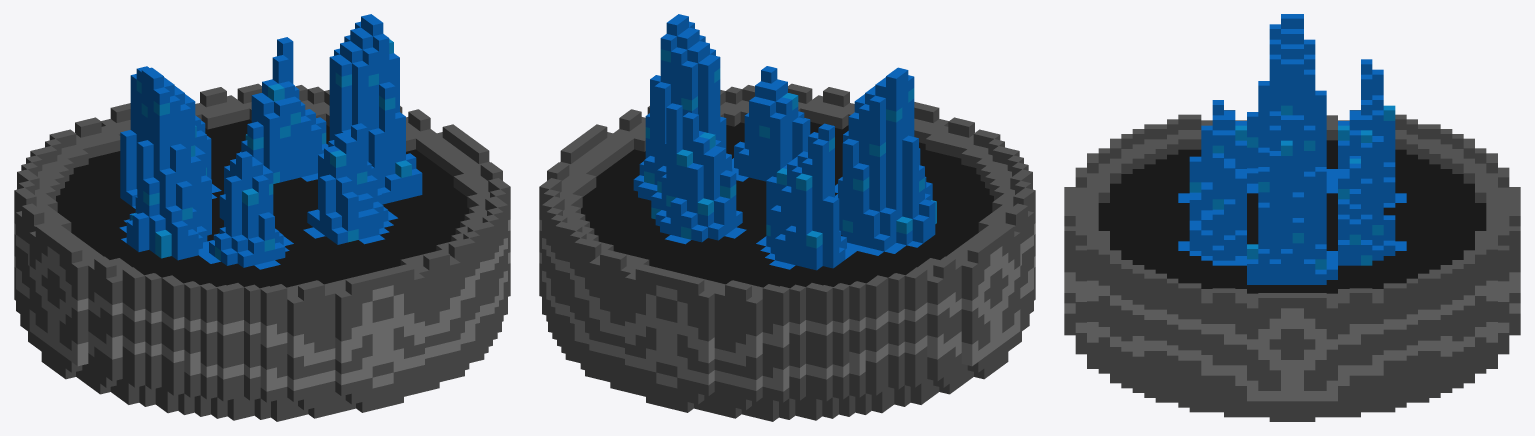
File: просто алтарь.obj
The picture shows the model from 3 angles, left to right: view 1: azimuth 30°, elevation 25°; view 2: azimuth 150°, elevation 25°; view 3: azimuth 270°, elevation 25°; orthographic projection. The views are drawn at different scales.
Size of the model in its own units: 4 by 2.5 by 4.
Materials: 1 (1 with a texture image).
